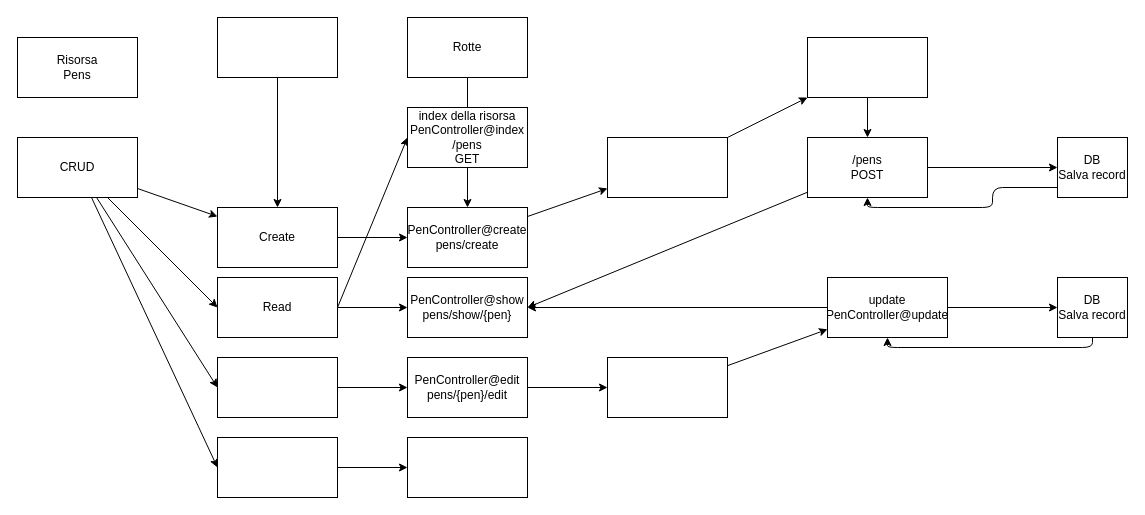
Image size: 1145x515. Some labels were removed from this diagram. Each missing label, with the centre of its shape:
Delete: point (277, 467)
Operazioni su risorsa: point (277, 47)
store PenController@store: point (867, 67)
Update: point (277, 387)
view con form che richiama i dati dal DB: point (667, 387)
view con un form utente inserisce dati: point (667, 167)
